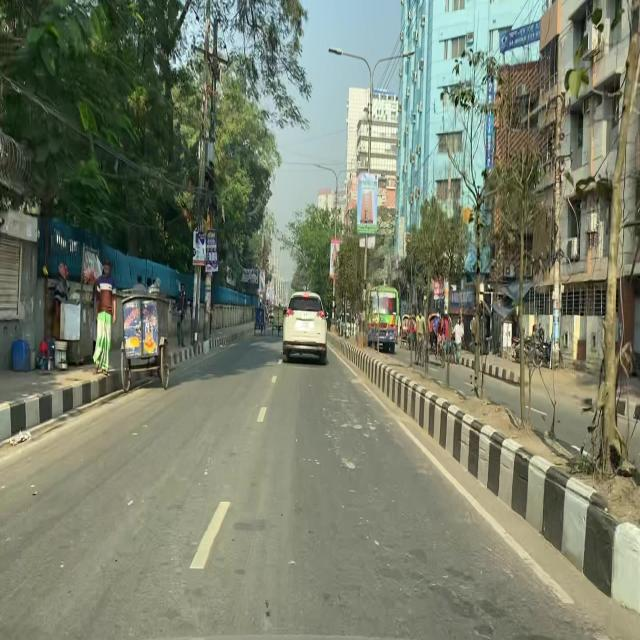car: (282, 291, 329, 366)
motorbike: (510, 321, 546, 366), (531, 329, 566, 370)
